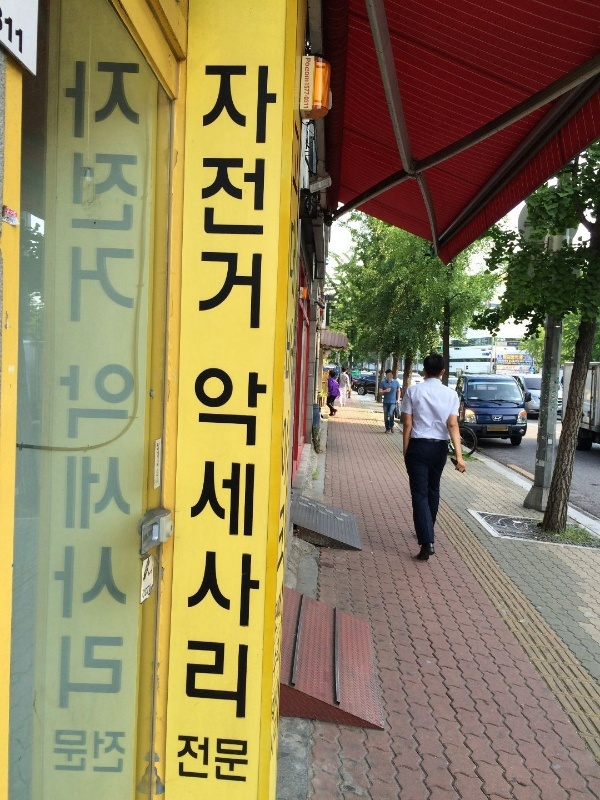text: (65, 49, 80, 786), (81, 49, 96, 786), (97, 49, 112, 786), (113, 49, 128, 786), (129, 49, 142, 786), (289, 122, 302, 579), (209, 359, 224, 731), (225, 359, 240, 731), (241, 359, 256, 731), (194, 359, 208, 731), (257, 359, 270, 731), (209, 57, 224, 336), (225, 57, 240, 336), (241, 57, 256, 336), (257, 57, 272, 336), (273, 57, 280, 336), (284, 122, 288, 579), (202, 57, 208, 336), (193, 733, 208, 789), (209, 733, 224, 789), (225, 733, 240, 789), (305, 58, 320, 112), (178, 733, 192, 789), (5, 13, 16, 62), (241, 733, 250, 789), (17, 13, 25, 62)
